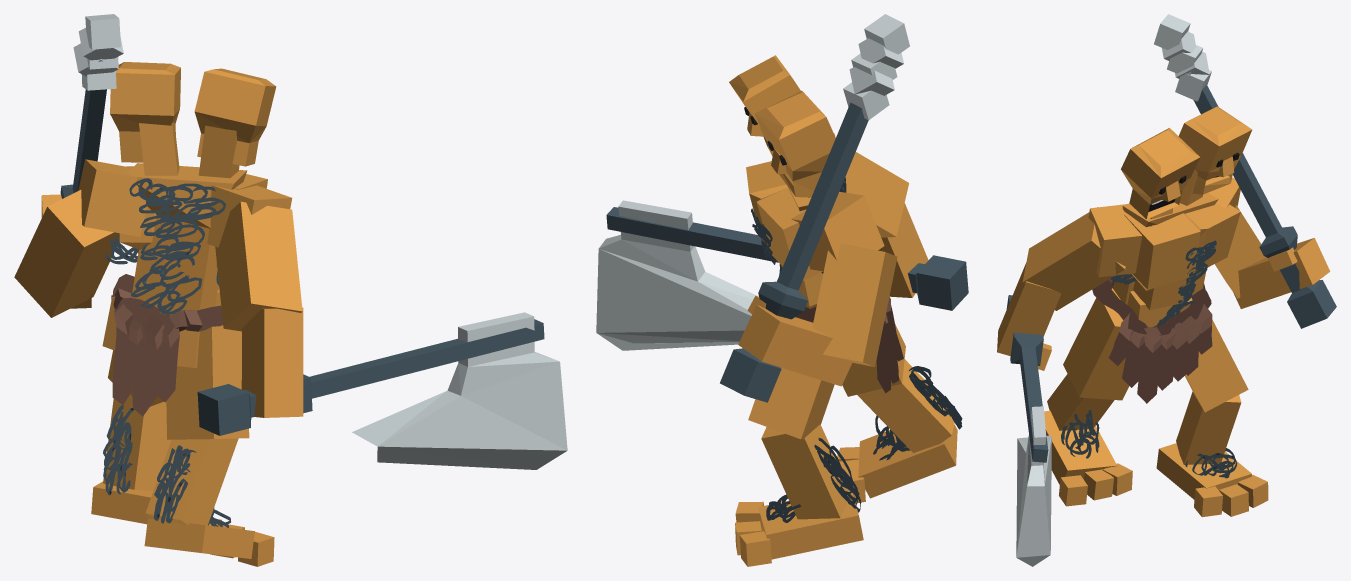
The model's file is vip3.glb.
3 renders of one model, left to right at view 1: azimuth 30°, elevation 25°; view 2: azimuth 150°, elevation 25°; view 3: azimuth 270°, elevation 25°, orthographic. The views are drawn at different scales.
Visible parts, largest first — view 1: Node; view 2: Node; view 3: Node.
Part boxes in pixels (left/top/right/bottom): Node: left=14, top=14, right=567, bottom=566; Node: left=596, top=14, right=968, bottom=566; Node: left=997, top=14, right=1336, bottom=566.
Bounding box in the file's own units: 2.38 × 3.01 × 2.07.
